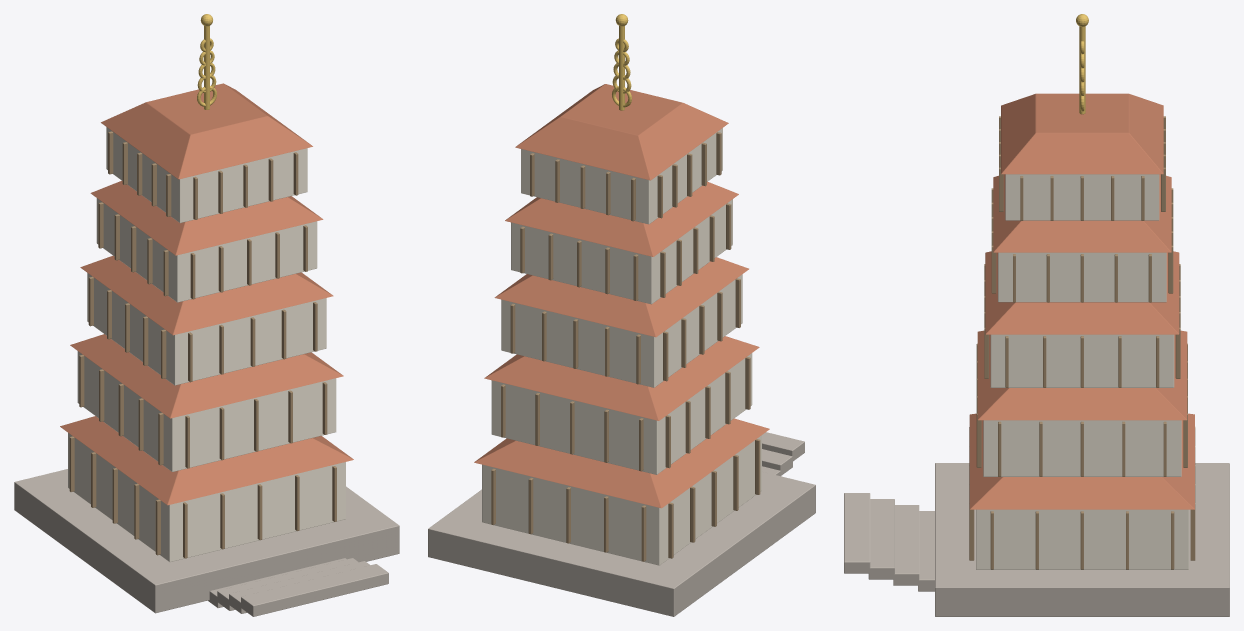
The model's file is pagoda_5tier.glb.
3 views of the same model, side by side, from view 1: azimuth 30°, elevation 25°; view 2: azimuth 150°, elevation 25°; view 3: azimuth 270°, elevation 25° (orthographic). The views are drawn at different scales.
Parts seen in each view (by area): view 1: Pagoda5; view 2: Pagoda5; view 3: Pagoda5.
Part boxes in pixels (x1,y1,x2,y2): Pagoda5: (14,14,399,616); Pagoda5: (428,14,815,616); Pagoda5: (844,14,1229,616).
Size of the model in its own units: 3.6 by 7.31 by 4.71.
